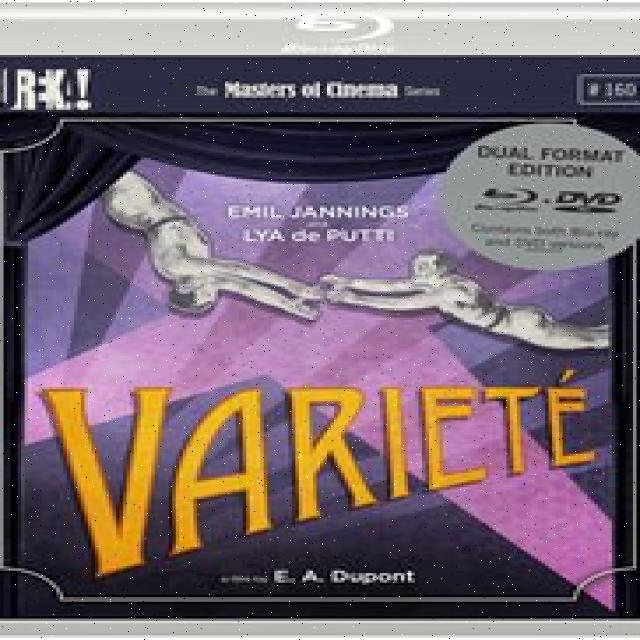movie-judul: (30, 362, 604, 599)
picture: (7, 3, 638, 640)
